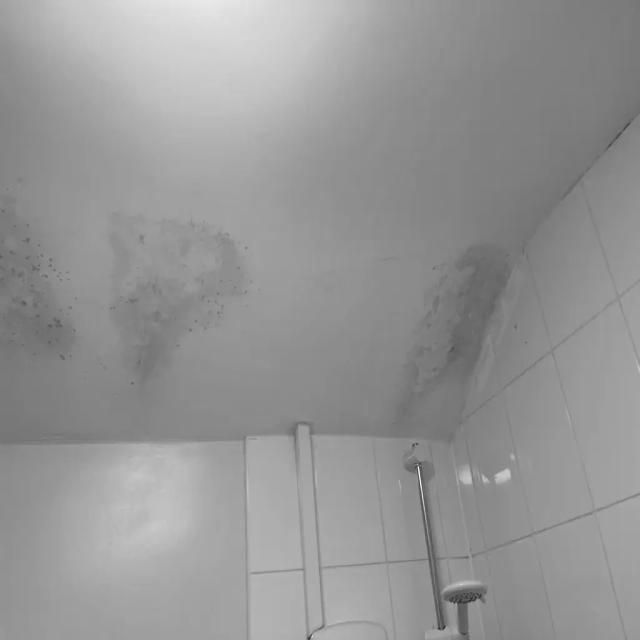stain marks: (376, 233, 534, 456), (102, 198, 261, 402), (0, 183, 91, 392)
